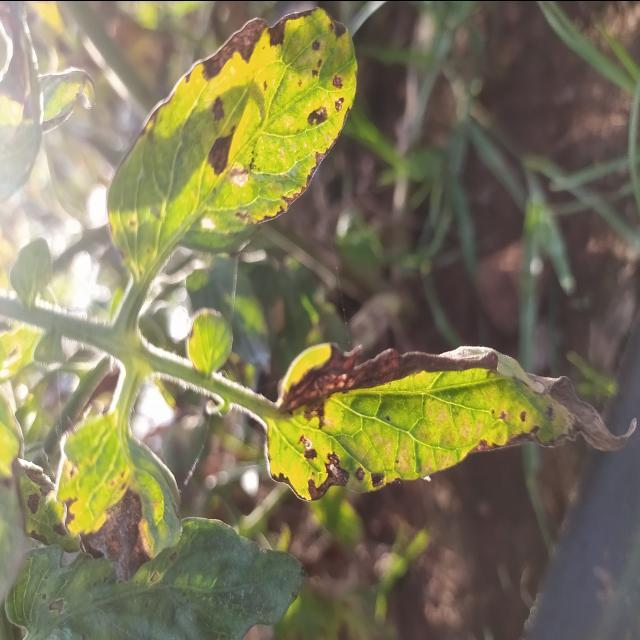Tomato mosaic virus leaf: (261, 331, 640, 509), (152, 1, 361, 254), (52, 409, 184, 592)
